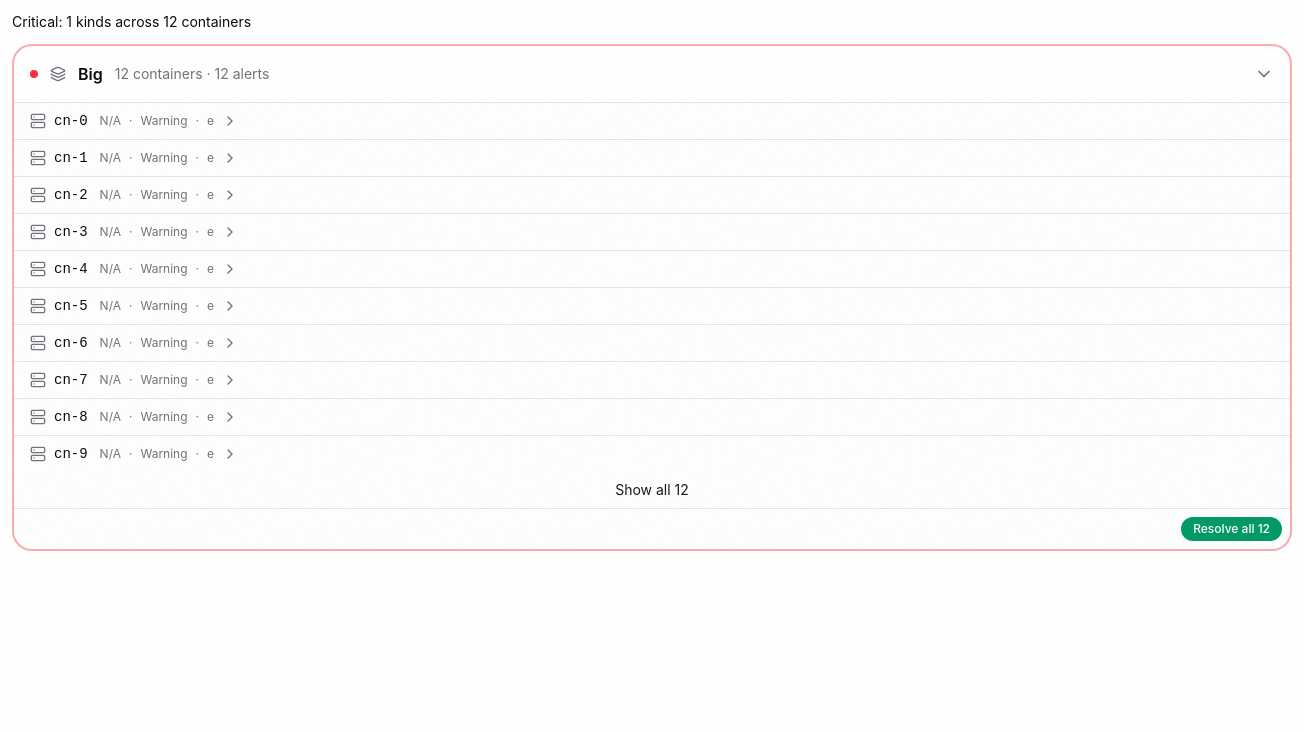
Scenario: IncidentGroupsView — Show all pagination › renders Show all button when container_count > 10 and fetches the long tail on click
Click the button "Show all 12" at (652, 490), box x1=14 y1=472 x2=1290 y2=508
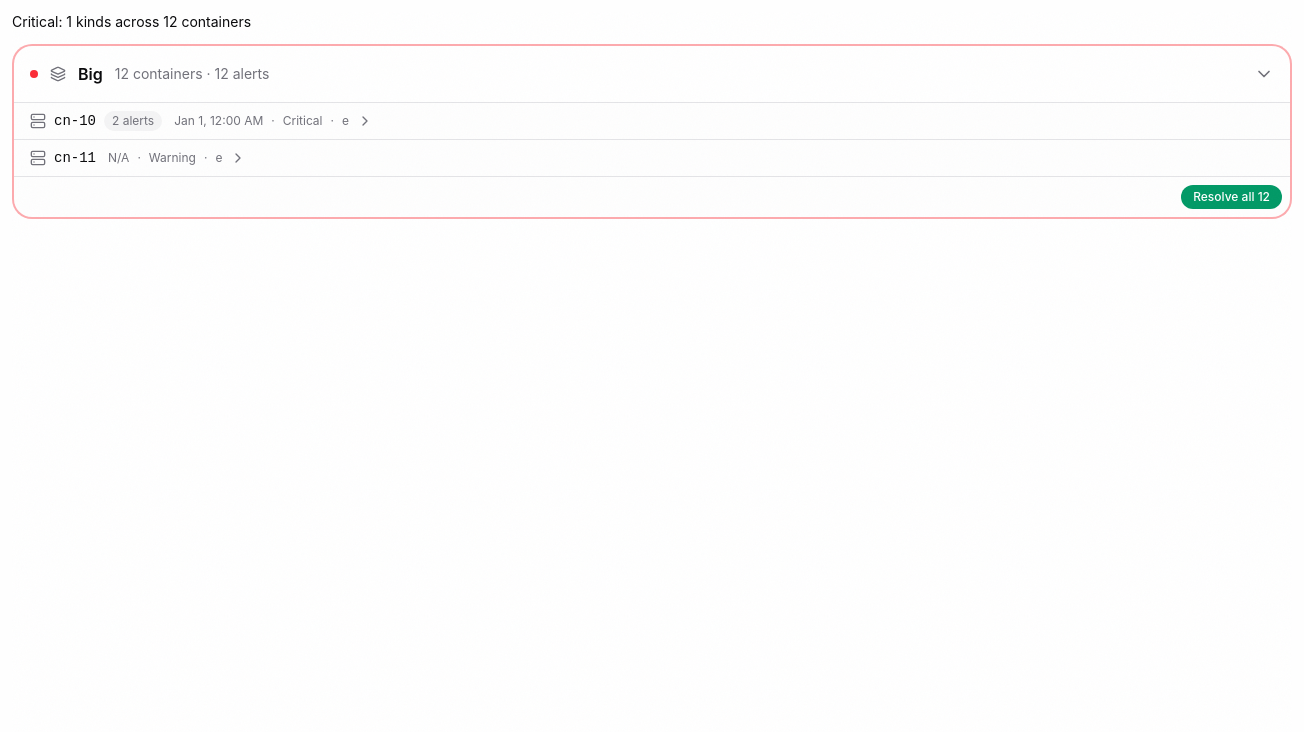
Now the link "cn-11" is shown, box x1=54 y1=148 x2=96 y2=168
Now the number of links "cn-10" is 1, box x1=54 y1=111 x2=96 y2=131
Now the text "2 alerts" is shown, box x1=104 y1=111 x2=162 y2=131
